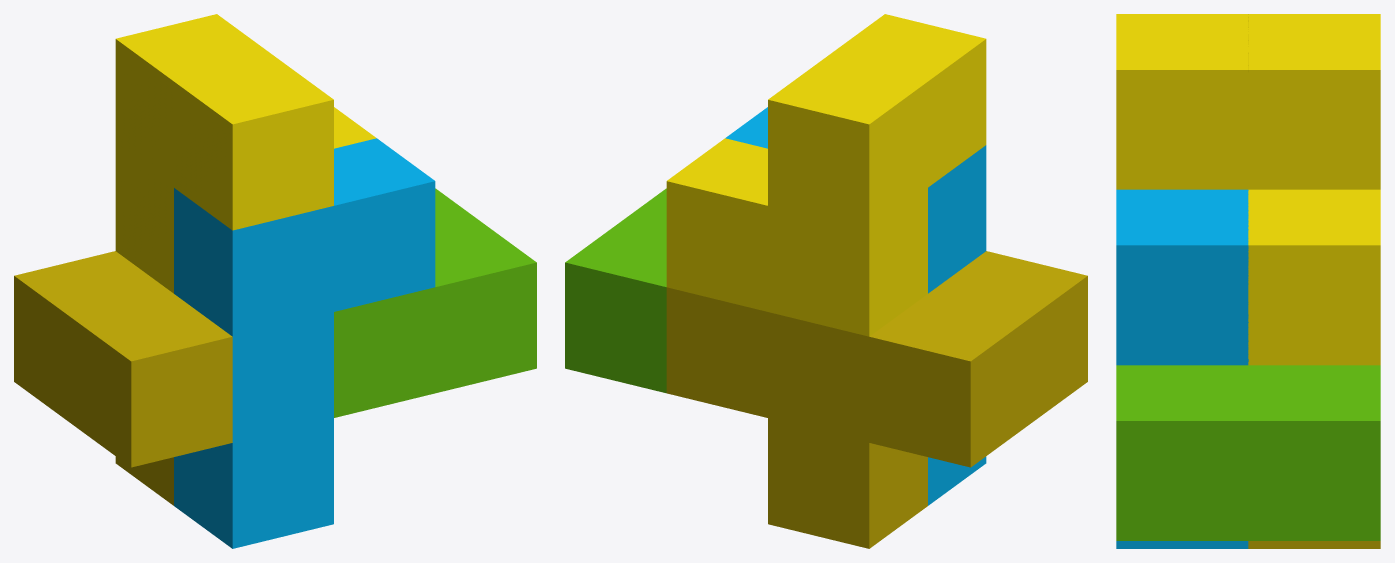
3 renders of one model, left to right at view 1: azimuth 30°, elevation 25°; view 2: azimuth 150°, elevation 25°; view 3: azimuth 270°, elevation 25°, orthographic. The views are drawn at different scales.
Parts seen in each view (by area): view 1: mergedBlocks(Clone); view 2: mergedBlocks(Clone); view 3: mergedBlocks(Clone).
Boxes of the visible parts, x1,y1,x2,y2 form: mergedBlocks(Clone): [14, 14, 536, 548]; mergedBlocks(Clone): [565, 14, 1087, 548]; mergedBlocks(Clone): [1116, 14, 1380, 548].
Size of the model in its own units: 4 by 4 by 2.
Materials: 4 (4 with a texture image).
